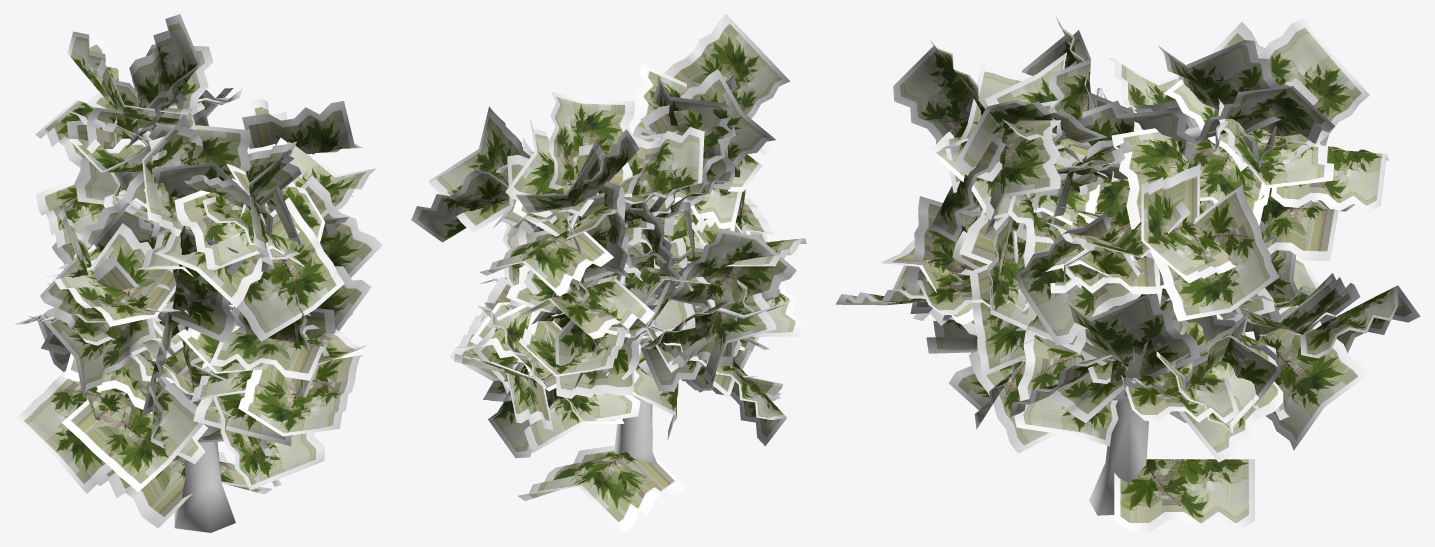
Rendered from Tree_2_FULL_DECIMATED.fbx.
3 renders of one model, left to right at view 1: azimuth 30°, elevation 25°; view 2: azimuth 150°, elevation 25°; view 3: azimuth 270°, elevation 25°, orthographic. The views are drawn at different scales.
Parts seen in each view (by area): view 1: Stronk|Blaadjes|Dupli|64, Stronk|Blaadjes|Dupli|85, Stronk|Blaadjes|Dupli|98, Stronk|Blaadjes|Dupli|63, Stronk|Blaadjes|Dupli|23, Stronk|Blaadjes|Dupli|87, Stronk, Stronk|Blaadjes|Dupli|130, Stronk|Blaadjes|Dupli|26, Stronk|Blaadjes|Dupli|16, Stronk|Blaadjes|Dupli|55, Stronk|Blaadjes|Dupli|22 (+42 smaller); view 2: Blaadjes, Stronk|Blaadjes|Dupli|107, Stronk|Blaadjes|Dupli|127, Stronk|Blaadjes|Dupli|26, Stronk|Blaadjes|Dupli|62, Stronk|Blaadjes|Dupli|122, Stronk|Blaadjes|Dupli|117, Stronk|Blaadjes|Dupli|16, Stronk|Blaadjes|Dupli|115, Stronk|Blaadjes|Dupli|81, Stronk|Blaadjes|Dupli|15, Stronk|Blaadjes|Dupli|24 (+44 smaller); view 3: Blaadjes, Stronk|Blaadjes|Dupli|15, Stronk|Blaadjes|Dupli|48, Stronk|Blaadjes|Dupli|96, Stronk|Blaadjes|Dupli|16, Stronk|Blaadjes|Dupli|12, Stronk|Blaadjes|Dupli|52, Stronk|Blaadjes|Dupli|127, Stronk|Blaadjes|Dupli|33, Stronk|Blaadjes|Dupli|26, Stronk, Stronk|Blaadjes|Dupli|117 (+50 smaller).
Boxes of the visible parts, box(x1,y1,x2,y2) form: Stronk|Blaadjes|Dupli|64: box(62, 353, 203, 491); Stronk|Blaadjes|Dupli|85: box(237, 197, 344, 341); Stronk|Blaadjes|Dupli|98: box(238, 355, 362, 436); Stronk|Blaadjes|Dupli|63: box(15, 371, 127, 493); Stronk|Blaadjes|Dupli|23: box(44, 223, 176, 326); Stronk|Blaadjes|Dupli|87: box(40, 255, 155, 399); Stronk: box(28, 88, 313, 532); Stronk|Blaadjes|Dupli|130: box(174, 178, 304, 270); Stronk|Blaadjes|Dupli|26: box(125, 14, 200, 149); Stronk|Blaadjes|Dupli|16: box(242, 101, 362, 154); Stronk|Blaadjes|Dupli|55: box(213, 396, 324, 490); Stronk|Blaadjes|Dupli|22: box(171, 226, 243, 342); Blaadjes: box(518, 445, 685, 532); Stronk|Blaadjes|Dupli|107: box(663, 228, 796, 308); Stronk|Blaadjes|Dupli|127: box(664, 14, 789, 118); Stronk|Blaadjes|Dupli|26: box(548, 91, 634, 197); Stronk|Blaadjes|Dupli|62: box(640, 69, 775, 166); Stronk|Blaadjes|Dupli|122: box(624, 127, 704, 204); Stronk|Blaadjes|Dupli|117: box(479, 223, 613, 296); Stronk|Blaadjes|Dupli|16: box(429, 106, 530, 233); Stronk|Blaadjes|Dupli|115: box(518, 279, 654, 339); Stronk|Blaadjes|Dupli|81: box(555, 305, 657, 398); Stronk|Blaadjes|Dupli|15: box(411, 170, 509, 242); Stronk|Blaadjes|Dupli|24: box(519, 310, 627, 376); Blaadjes: box(1114, 459, 1254, 532); Stronk|Blaadjes|Dupli|15: box(1150, 184, 1279, 321); Stronk|Blaadjes|Dupli|48: box(1015, 212, 1140, 345); Stronk|Blaadjes|Dupli|96: box(1258, 305, 1369, 450); Stronk|Blaadjes|Dupli|16: box(1141, 165, 1236, 283); Stronk|Blaadjes|Dupli|12: box(1258, 18, 1369, 164); Stronk|Blaadjes|Dupli|52: box(1061, 293, 1200, 376); Stronk|Blaadjes|Dupli|127: box(893, 38, 999, 143); Stronk|Blaadjes|Dupli|33: box(1014, 330, 1118, 446); Stronk|Blaadjes|Dupli|26: box(1158, 40, 1288, 133); Stronk: box(924, 88, 1337, 515); Stronk|Blaadjes|Dupli|117: box(1271, 145, 1388, 213).
Bounding box in the file's own units: 448 × 535 × 587.
